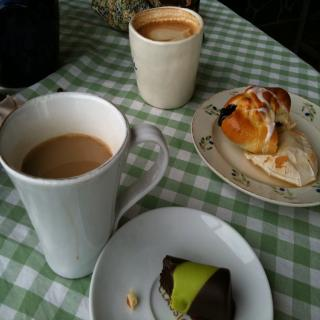Bread: (220, 85, 294, 161), (158, 254, 234, 320)
